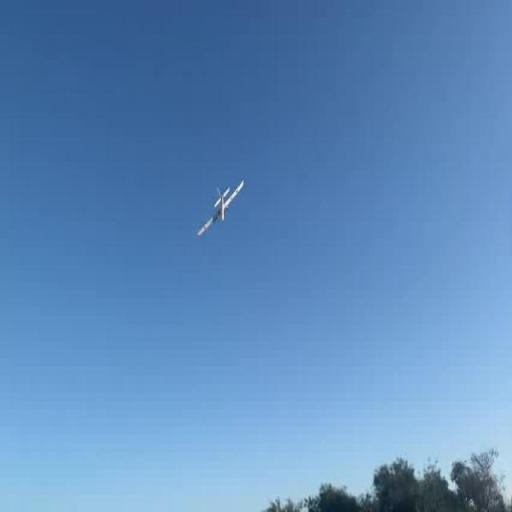uav: (196, 178, 246, 241)
